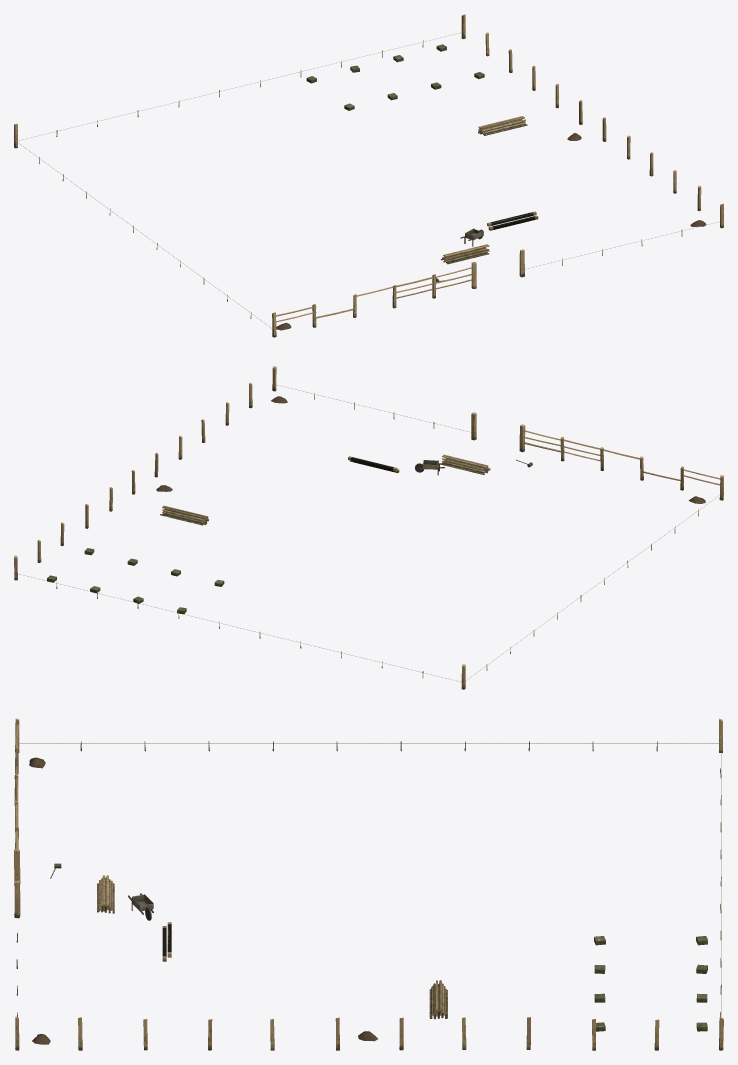
The model's file is horse_paddock_build1.glb.
3 renders of one model, top to bottom at view 1: azimuth 30°, elevation 25°; view 2: azimuth 150°, elevation 25°; view 3: azimuth 270°, elevation 25°, orthographic. The views are drawn at different scales.
Visible parts, largest first — view 1: horse_paddock_build1_LOD0; view 2: horse_paddock_build1_LOD0; view 3: horse_paddock_build1_LOD0.
Boxes of the visible parts, x1=… form: horse_paddock_build1_LOD0: x1=14, y1=14, x2=723, y2=337; horse_paddock_build1_LOD0: x1=14, y1=366, x2=723, y2=689; horse_paddock_build1_LOD0: x1=14, y1=718, x2=723, y2=1050.
Size of what is drawn, in the model's own units: 29.83 by 1.66 by 29.86.
1 material, 1 textured.
